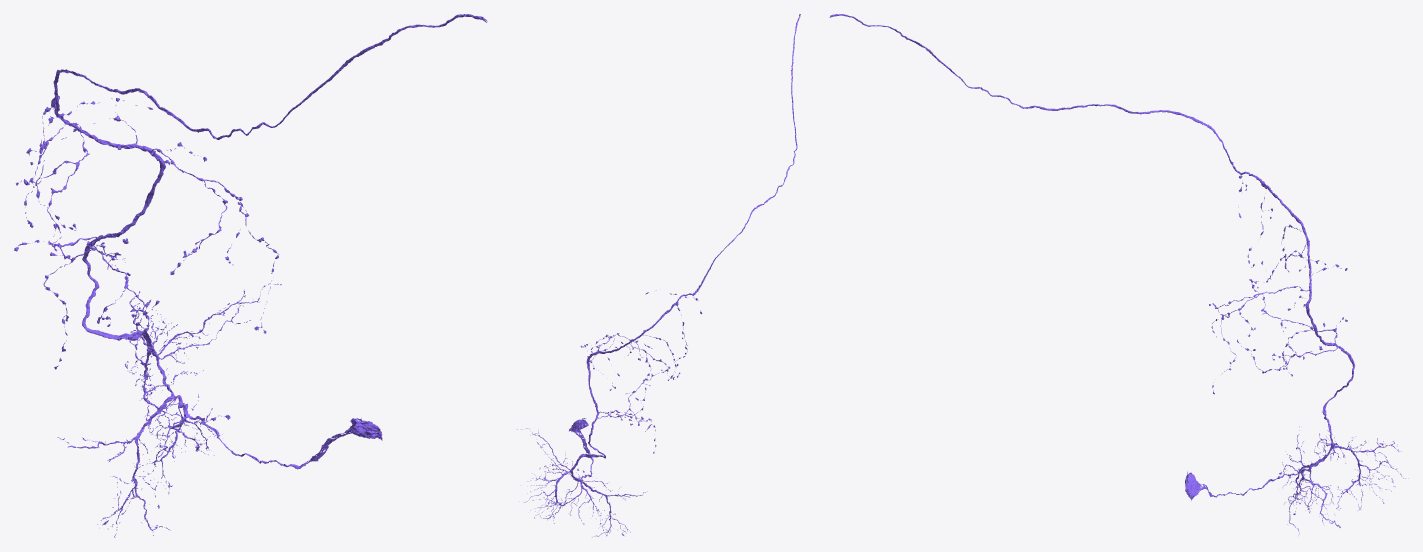
The model's file is VFB_00104xm7.glb.
3 renders of one model, left to right at view 1: azimuth 30°, elevation 25°; view 2: azimuth 150°, elevation 25°; view 3: azimuth 270°, elevation 25°, orthographic. The views are drawn at different scales.
Visible parts, largest first — view 1: VFB_00104xm7; view 2: VFB_00104xm7; view 3: VFB_00104xm7.
Boxes of the visible parts, x1,y1,x2,y2 form: VFB_00104xm7: [14, 14, 487, 537]; VFB_00104xm7: [517, 14, 800, 537]; VFB_00104xm7: [829, 14, 1408, 535].
Bounding box in the file's own units: 0.1072 × 0.2525 × 0.2617.
